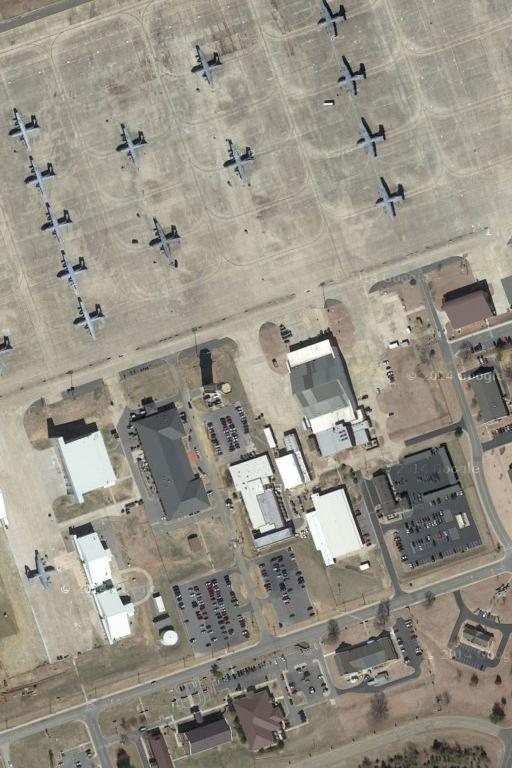C-130: (112, 122, 154, 170), (189, 43, 228, 91), (145, 215, 185, 261), (221, 135, 257, 185), (37, 200, 75, 247), (54, 247, 89, 297), (18, 153, 55, 199), (7, 106, 41, 155), (71, 295, 106, 342), (352, 118, 389, 161), (25, 547, 59, 592), (334, 56, 368, 98), (375, 175, 406, 221), (314, 1, 347, 39)
